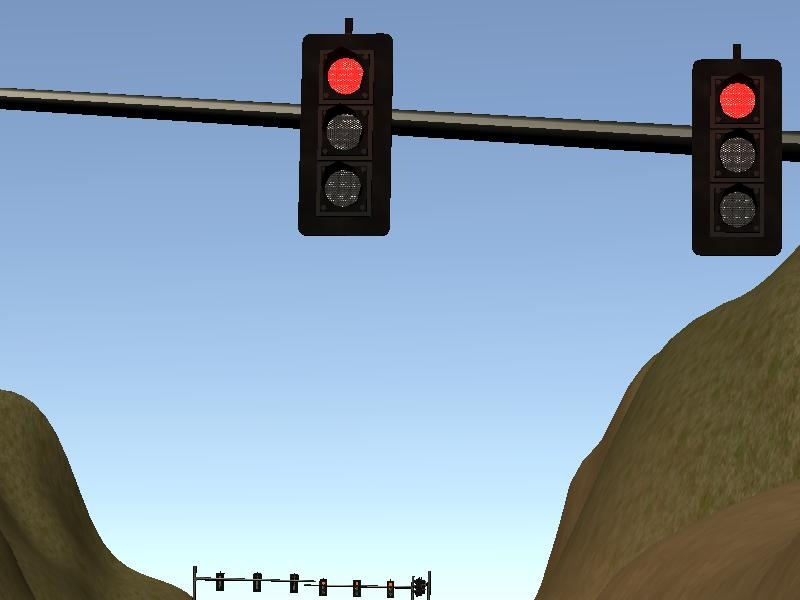RED: (298, 34, 394, 236), (693, 60, 782, 257)
